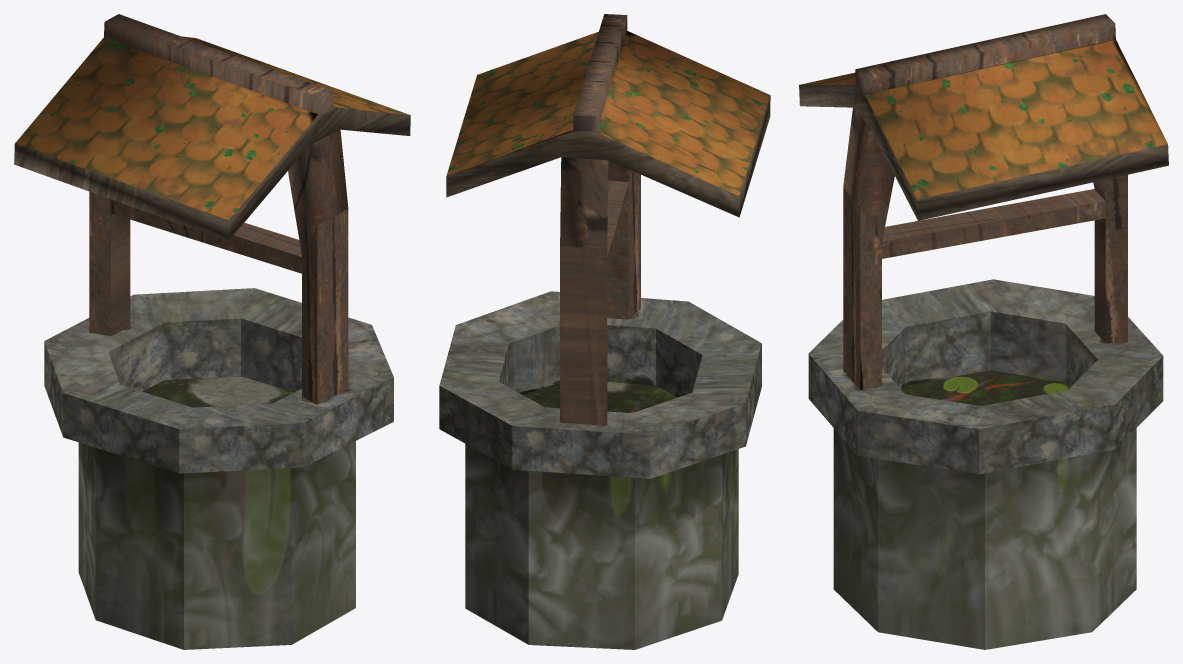
Rendered from POZO.obj.
The picture shows the model from 3 angles, left to right: view 1: azimuth 30°, elevation 25°; view 2: azimuth 150°, elevation 25°; view 3: azimuth 270°, elevation 25°; orthographic projection. The views are drawn at different scales.
Visible parts, largest first — view 1: Circle_Circle.001_Circle_Circle.000; view 2: Circle_Circle.001_Circle_Circle.000; view 3: Circle_Circle.001_Circle_Circle.000.
Part boxes in pixels (x1,y1,x2,y2): Circle_Circle.001_Circle_Circle.000: (14,14,410,649); Circle_Circle.001_Circle_Circle.000: (439,14,770,649); Circle_Circle.001_Circle_Circle.000: (799,14,1168,649).
Bounding box in the file's own units: 1.65 × 2.56 × 1.56.
Materials: 1 (1 with a texture image).
